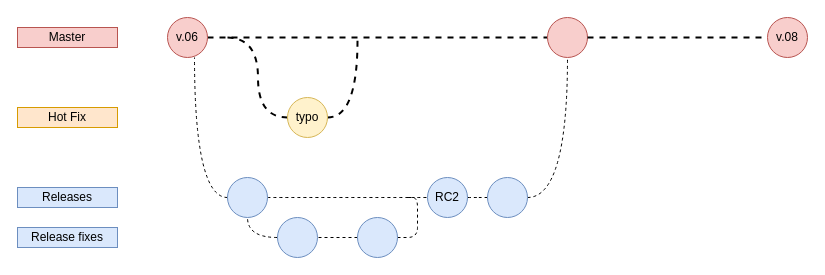
Image size: 825x275. Some labels were removed from this diagram. The shapes that lost their labels are listed below. From the top down, each one's centre as x and y in pixels, then its label:
At point (567, 37): "v.07".
At point (247, 197): "RC1".
At point (507, 197): "RC3".
